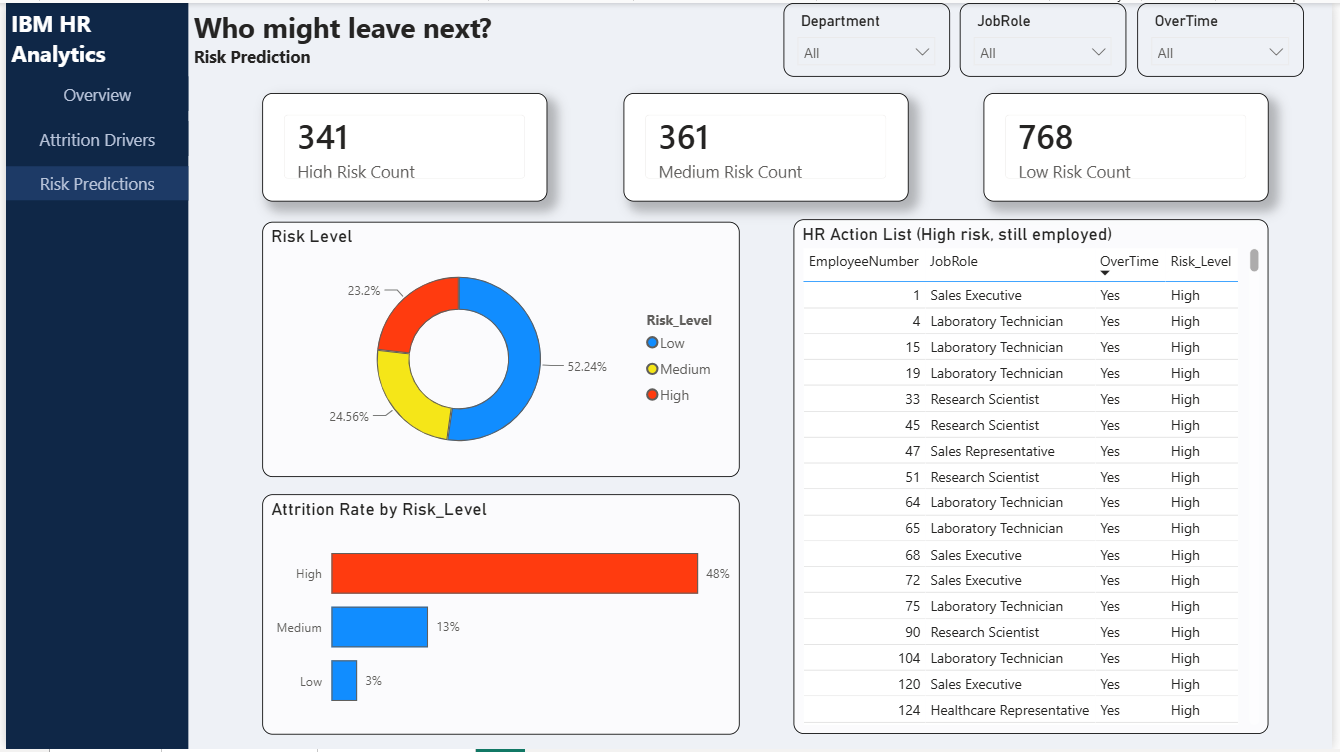

What the dashboard file says about the page in this screenshot:
{"tool":"powerbi","page":{"name":"Risk Predictions","canvas":[1280,720],"ordinal":2},"visuals":[{"type":"shape","box":[0,0,176,720.2],"z":0},{"type":"pageNavigator","box":[0,71.2,176.1,120.6],"z":1000},{"type":"textbox","box":[0,0,176.1,71.2],"z":2000},{"type":"textbox","box":[176.1,0,1103.9,71.2],"z":3000},{"type":"slicer","fields":{"Values":["public ibm_hr_project.Department"]},"box":[750.4,0,160.5,71.2],"z":4000},{"type":"slicer","fields":{"Values":["public ibm_hr_project.OverTime"]},"box":[1091.8,0,160.5,71.2],"z":5000},{"type":"slicer","fields":{"Values":["public ibm_hr_project.JobRole"]},"box":[920.5,0,160.5,71.2],"z":6000},{"type":"cardVisual","fields":{"Data":["public hr_predictions.High Risk Count"]},"box":[247.3,86.9,275.1,105],"z":7000},{"type":"cardVisual","fields":{"Data":["public hr_predictions.Low Risk Count"]},"box":[943.4,86.9,275.1,105],"z":8000},{"type":"cardVisual","fields":{"Data":["public hr_predictions.Medium Risk Count"]},"box":[596,86.9,275.1,105],"z":9000},{"type":"donutChart","title":"Risk Level","fields":{"Category":["public hr_predictions.Risk_Level"],"Y":["CountNonNull(public hr_predictions.Risk_Level)"]},"box":[247.3,211.1,460.9,246.1],"z":10000},{"type":"clusteredBarChart","fields":{"Category":["public hr_predictions.Risk_Level"],"Y":["public hr_predictions.Attrition Rate"]},"box":[247.3,474.1,460.9,231.6],"z":11000},{"type":"tableEx","title":"HR Action List (High risk, still employed)","fields":{"Values":["public ibm_hr_project.EmployeeNumber","public ibm_hr_project.JobRole","public ibm_hr_project.OverTime","public ibm_hr_project.Risk_Level"]},"box":[760.1,208.7,458.4,497.1],"z":12000}]}

Visuals, with their boxes in screenshot pixels (x1, y1, x2, y2), scaled from the page's 1280x720 canvas onto the 1340x752 screenshot:
shape: locate(0, 0, 184, 751)
pageNavigator: locate(0, 74, 184, 200)
textbox: locate(0, 0, 184, 74)
textbox: locate(184, 0, 1339, 74)
slicer - public ibm_hr_project.Department: locate(786, 0, 954, 74)
slicer - public ibm_hr_project.OverTime: locate(1143, 0, 1311, 74)
slicer - public ibm_hr_project.JobRole: locate(964, 0, 1132, 74)
cardVisual - public hr_predictions.High Risk Count: locate(259, 91, 547, 200)
cardVisual - public hr_predictions.Low Risk Count: locate(988, 91, 1276, 200)
cardVisual - public hr_predictions.Medium Risk Count: locate(624, 91, 912, 200)
"Risk Level" donutChart: locate(259, 220, 741, 478)
clusteredBarChart - public hr_predictions.Risk_Level x public hr_predictions.Attrition Rate: locate(259, 495, 741, 737)
"HR Action List (High risk, still employed)" tableEx: locate(796, 218, 1276, 737)
